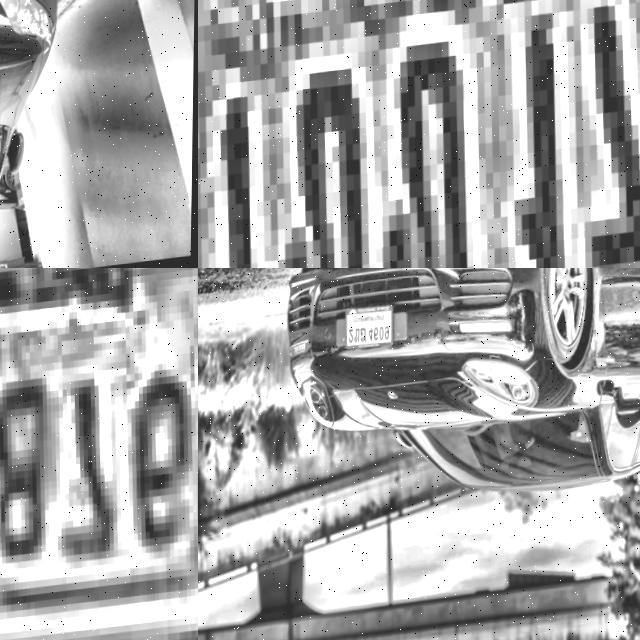license-plate: (198, 0, 640, 268), (0, 268, 198, 640), (343, 308, 395, 358)
